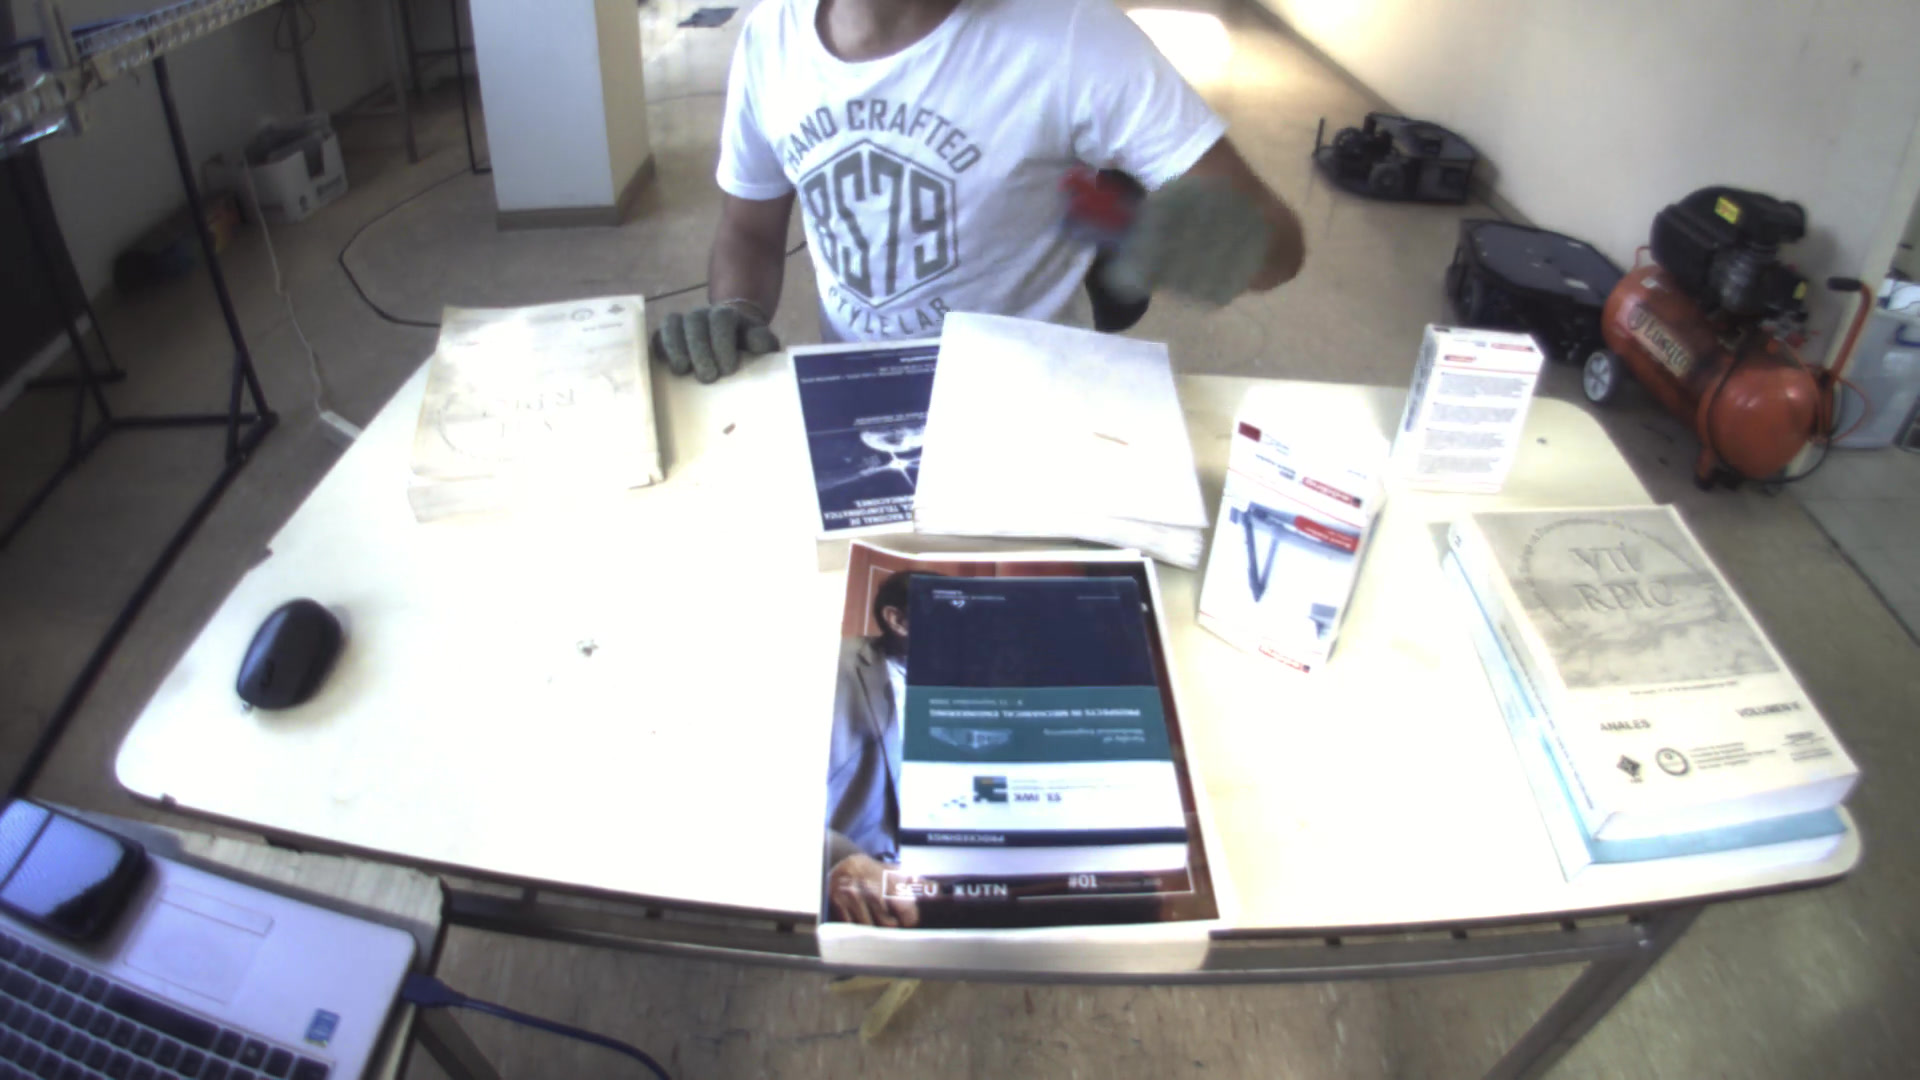hand: (1106, 182, 1274, 316), (640, 301, 781, 385)
